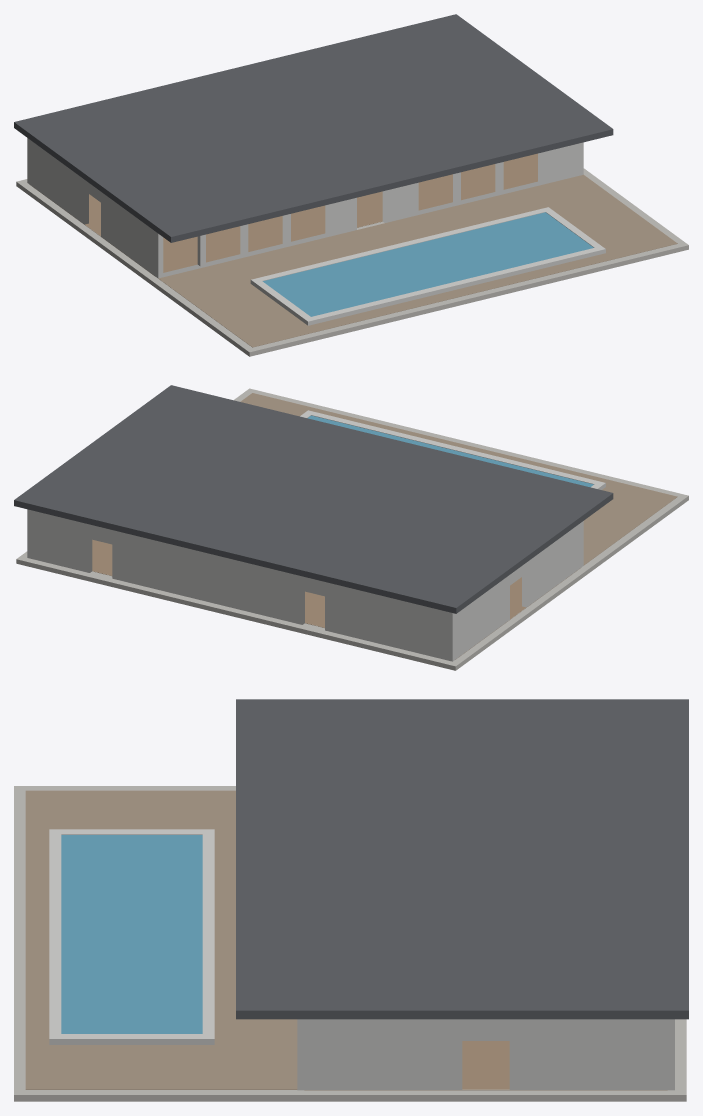
The model's file is condo-club.reveal-v1.lod0.glb.
3 views of the same model, one above another, from view 1: azimuth 30°, elevation 25°; view 2: azimuth 150°, elevation 25°; view 3: azimuth 270°, elevation 25° (orthographic). The views are drawn at different scales.
Visible parts, largest first — view 1: condo-club; view 2: condo-club; view 3: condo-club.
Boxes of the visible parts, bbox=[...] form: condo-club: bbox=[14, 14, 688, 356]; condo-club: bbox=[14, 385, 688, 670]; condo-club: bbox=[14, 699, 688, 1101].
Size of the model in its own units: 31.2 by 4.3 by 28.6.
